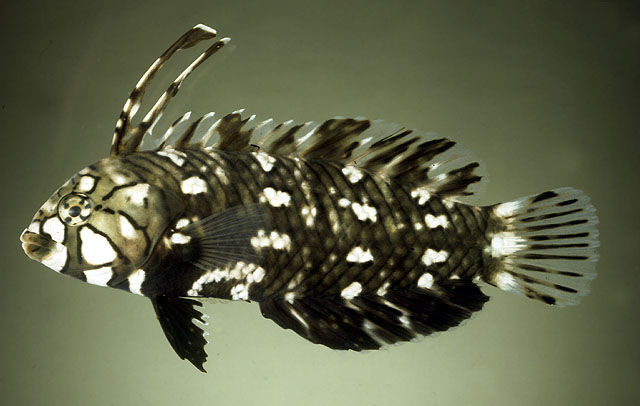fish: (18, 22, 601, 374)
